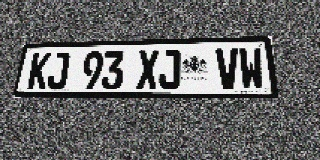3: (101, 51, 124, 89)
9: (81, 51, 104, 89)
J: (46, 52, 70, 90), (158, 49, 180, 89)
K: (27, 53, 51, 90)
V: (216, 48, 240, 89)
W: (238, 48, 265, 89)
X: (137, 50, 159, 89)
